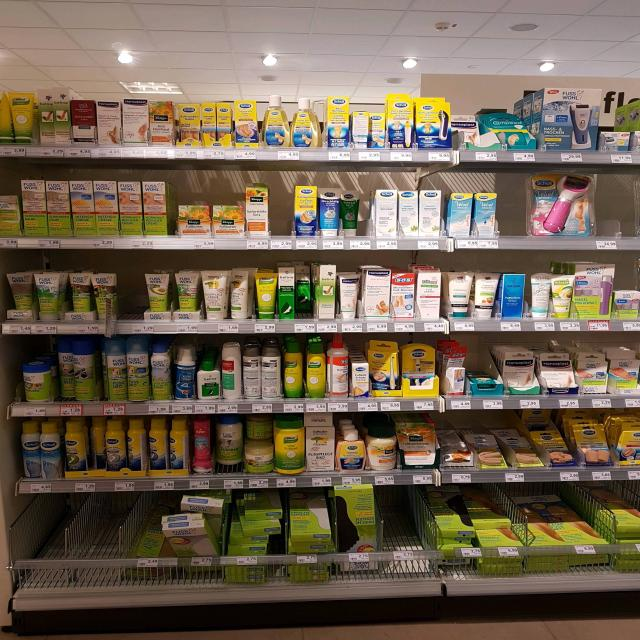void: (102, 489, 148, 607), (382, 486, 428, 600), (52, 497, 98, 611), (13, 495, 45, 610), (603, 167, 640, 237), (269, 179, 290, 252)
